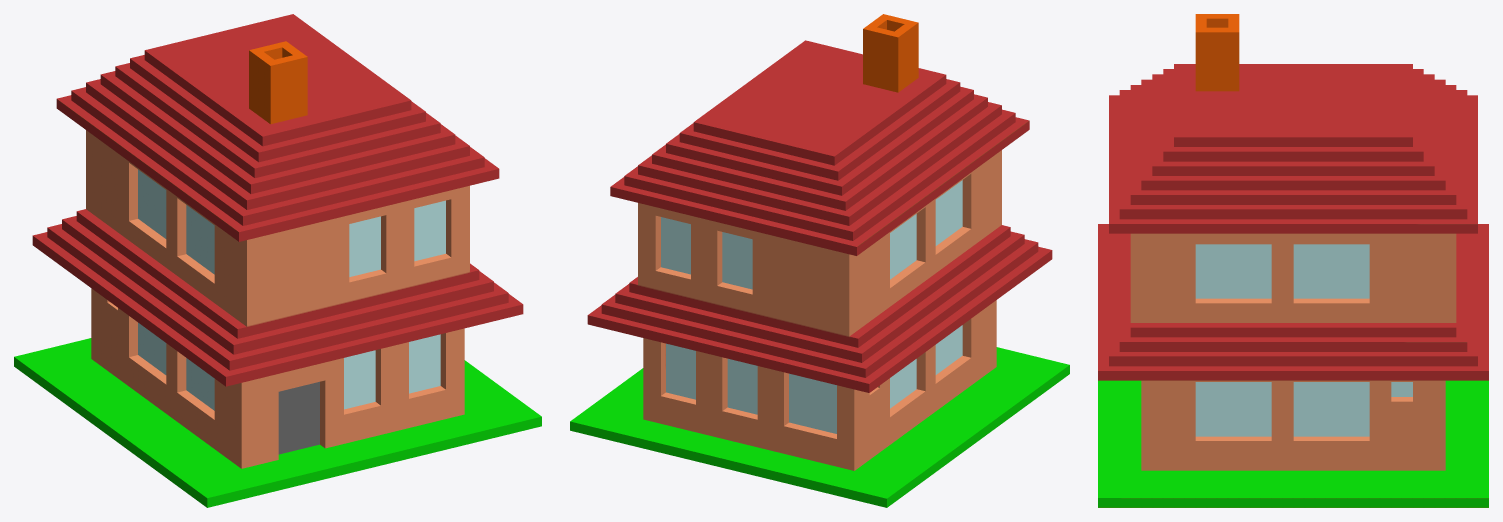
Rendered from building_12.fbx.
3 views of the same model, side by side, from view 1: azimuth 30°, elevation 25°; view 2: azimuth 150°, elevation 25°; view 3: azimuth 270°, elevation 25° (orthographic). The views are drawn at different scales.
Visible parts, largest first — view 1: building_12; view 2: building_12; view 3: building_12.
Boxes of the visible parts, bbox=[...] form: building_12: bbox=[14, 14, 541, 507]; building_12: bbox=[570, 14, 1069, 507]; building_12: bbox=[1098, 14, 1488, 507].
Size of the model in its own units: 360 by 390 by 360.
1 material, 1 textured.
